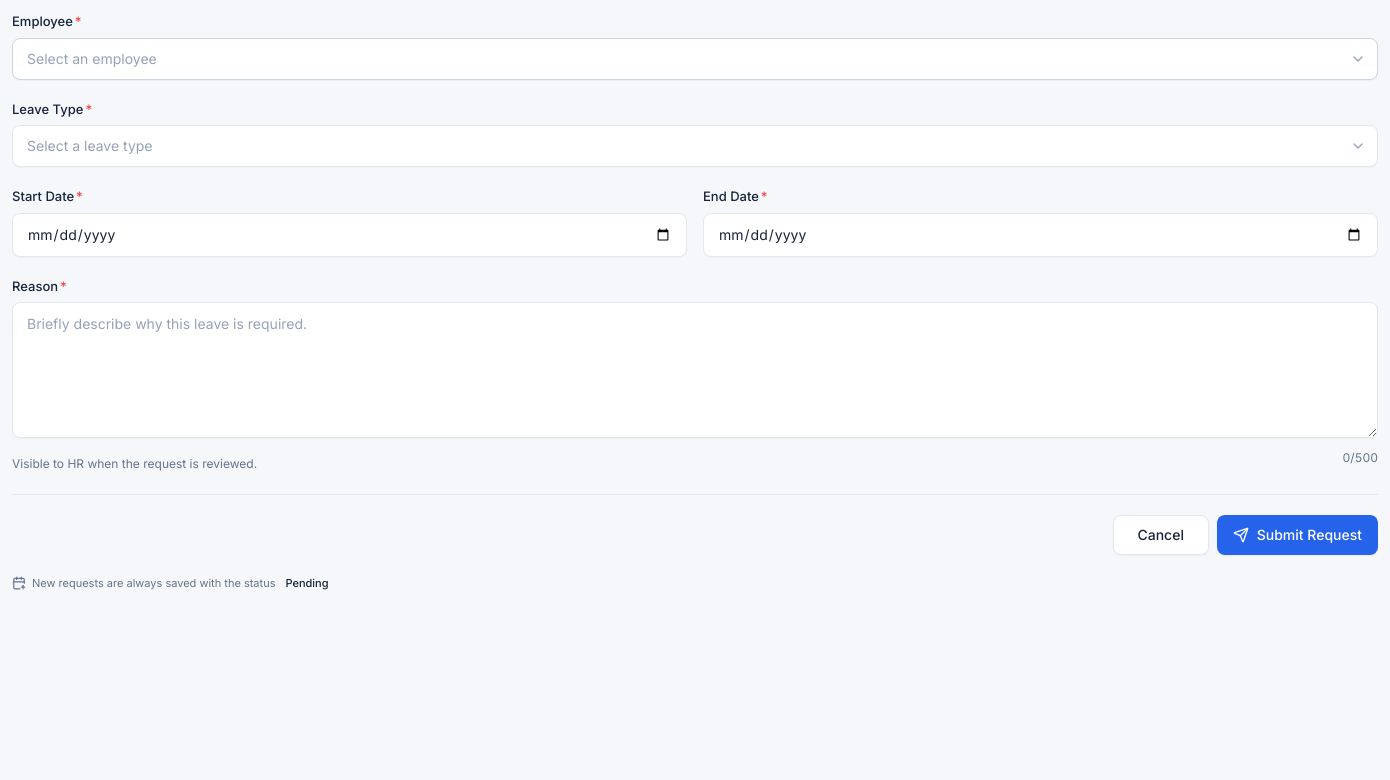
Test case: LeaveRequestForm validation › shows required field messages when submitted empty
This screenshot has width=1390, height=780.
Step 1. Click the button "Submit Request" → click(1297, 535), box [1217,515,1378,555]
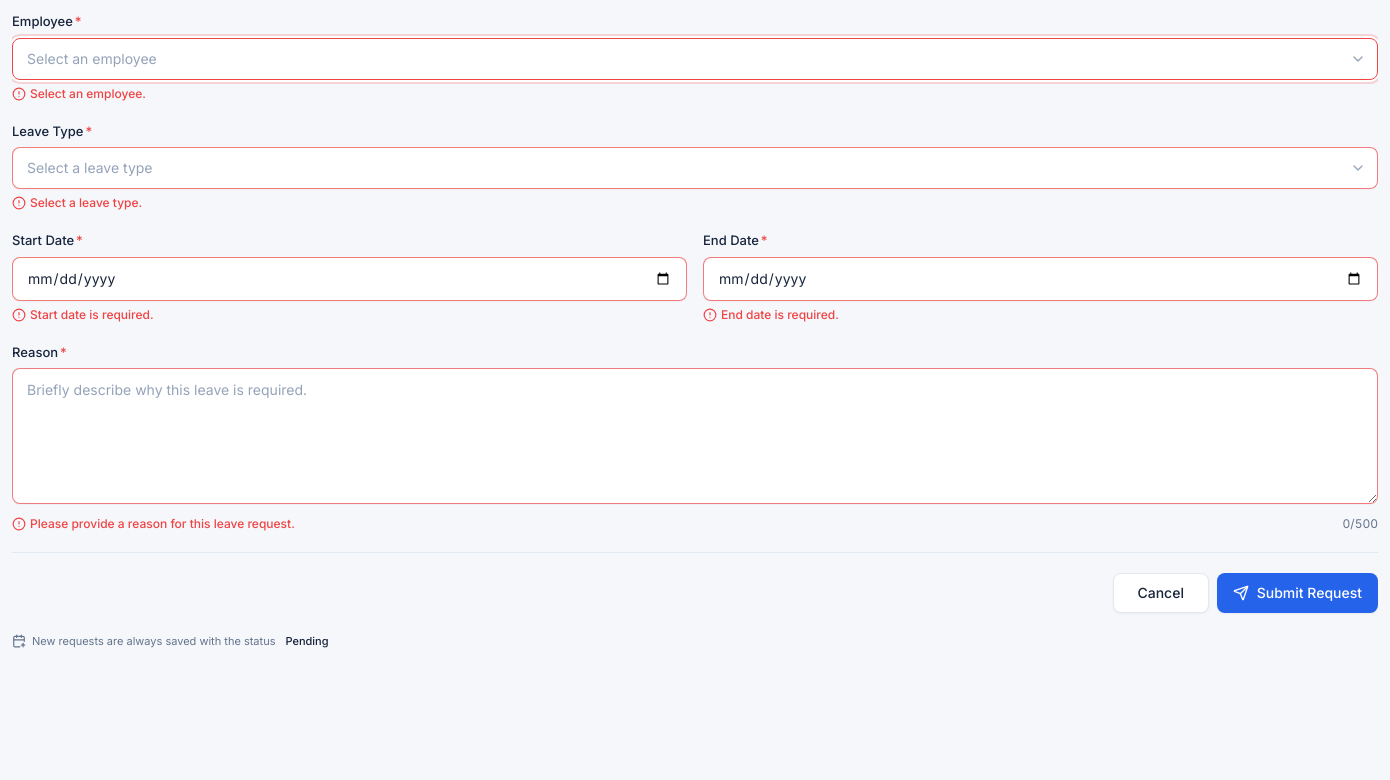
expect the text "Select an employee." is shown: met, box [12,86,146,100]
expect the text "Select a leave type." is shown: met, box [12,195,142,210]
expect the text "Start date is required." is shown: met, box [12,306,154,322]
